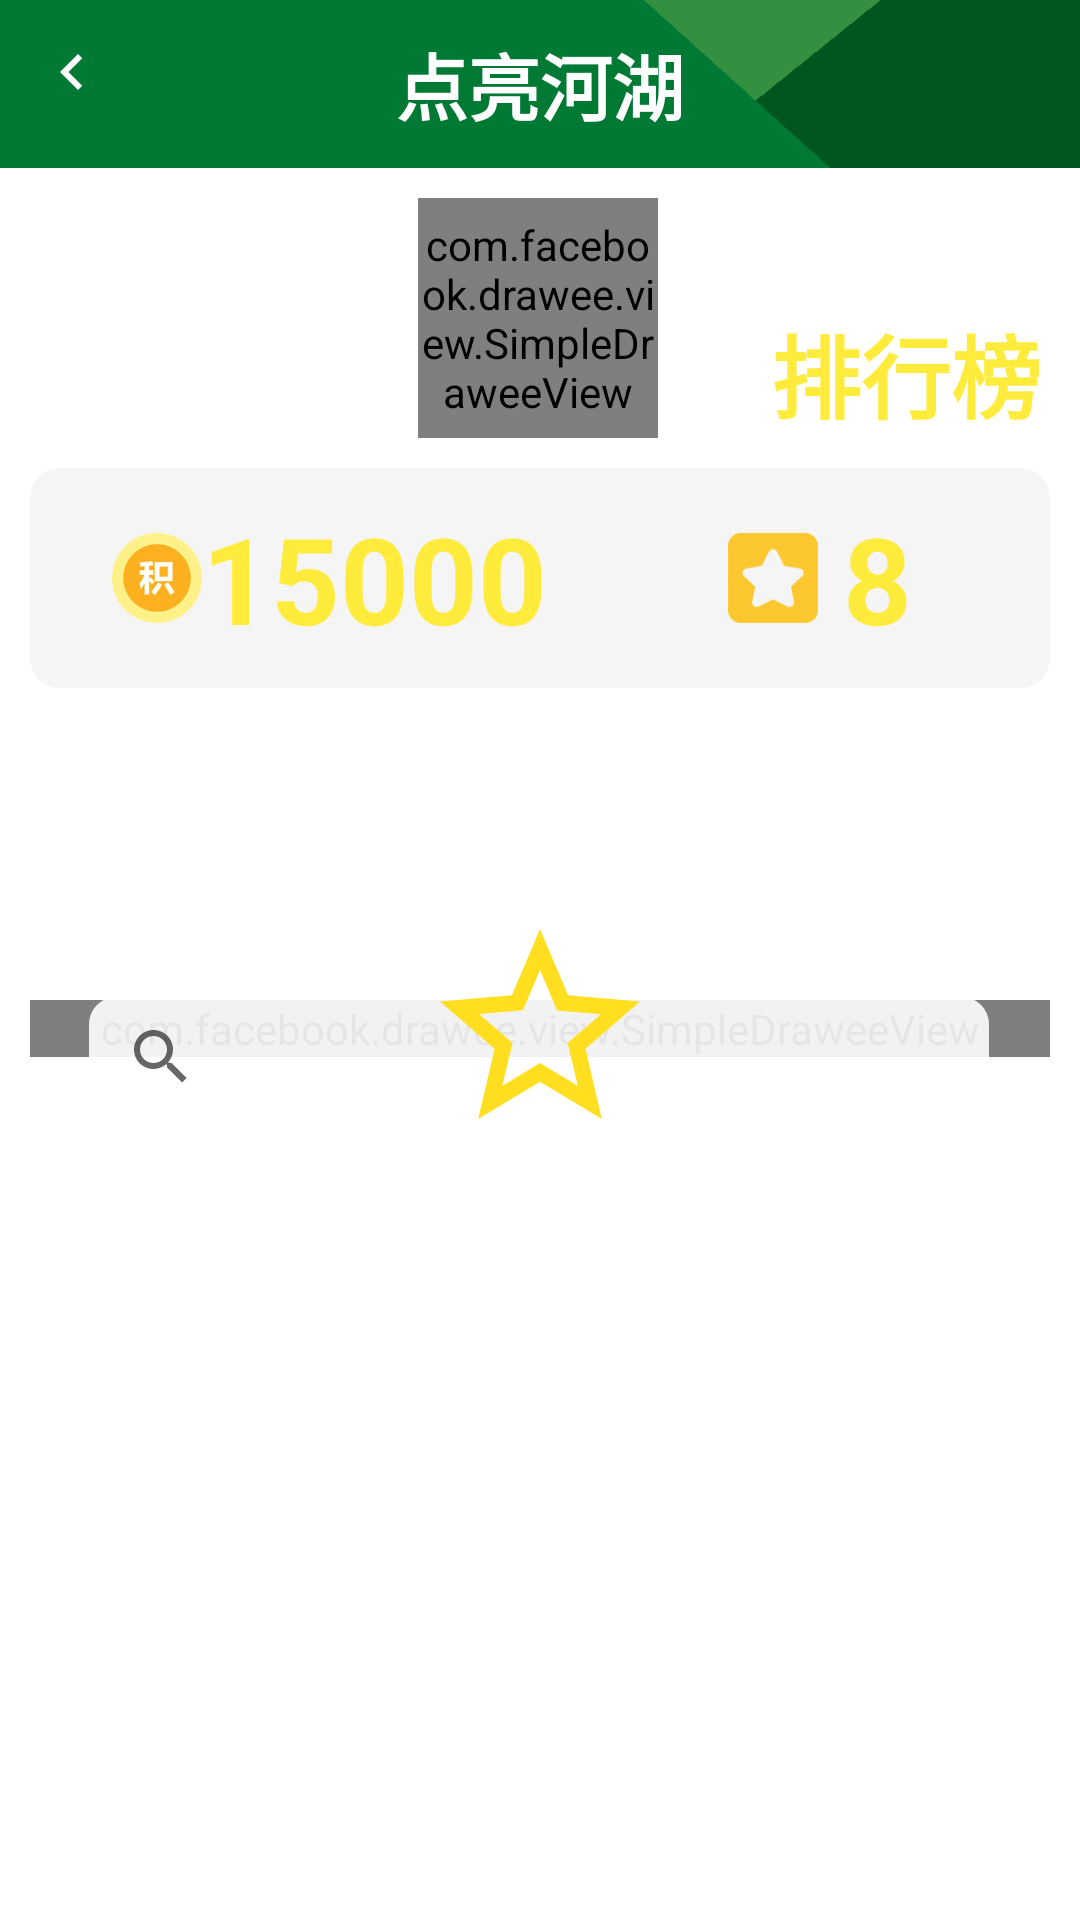

Point at icon controls on the screen. Image size 1080w x 1920h, points as (x=x, y=y).
star border: (x=537, y=1024)
